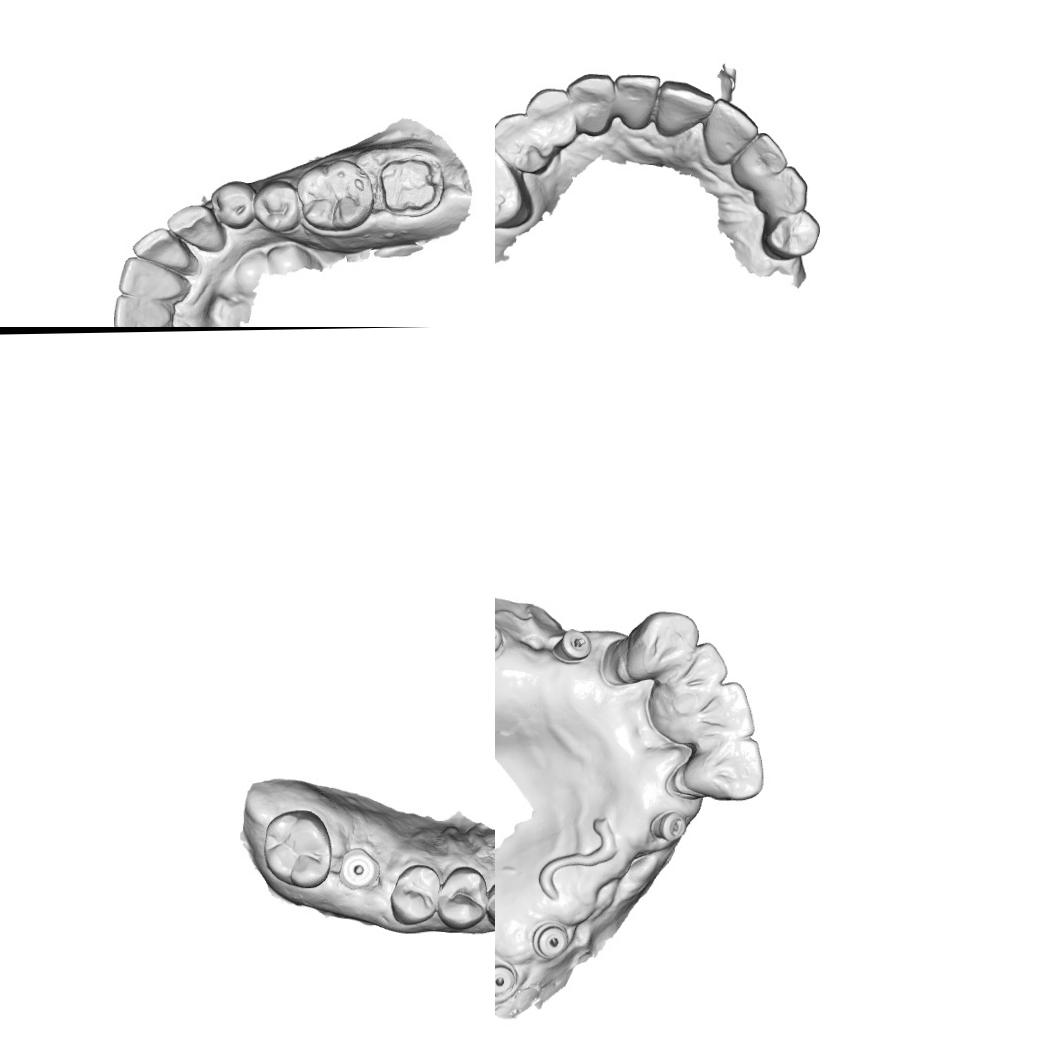canine: (162, 201, 226, 256), (565, 71, 617, 138), (752, 164, 810, 216)
crown: (376, 152, 449, 224)
implant: (532, 920, 572, 960), (339, 850, 378, 890), (495, 958, 518, 998)
implant_minus: (650, 810, 689, 842), (555, 630, 592, 663), (495, 622, 506, 653)
incisor: (677, 735, 766, 803), (622, 608, 702, 679), (680, 678, 757, 741), (701, 96, 760, 166), (653, 76, 716, 138), (728, 130, 790, 192), (115, 252, 186, 302), (131, 225, 195, 272), (614, 70, 662, 132), (667, 640, 728, 688), (109, 292, 175, 327)
molar: (293, 156, 378, 238), (260, 808, 334, 890), (495, 142, 534, 230)
premolar: (386, 863, 441, 928), (495, 111, 549, 177), (524, 84, 578, 148), (438, 864, 488, 932), (760, 207, 822, 260), (251, 178, 304, 236), (209, 177, 259, 231)
